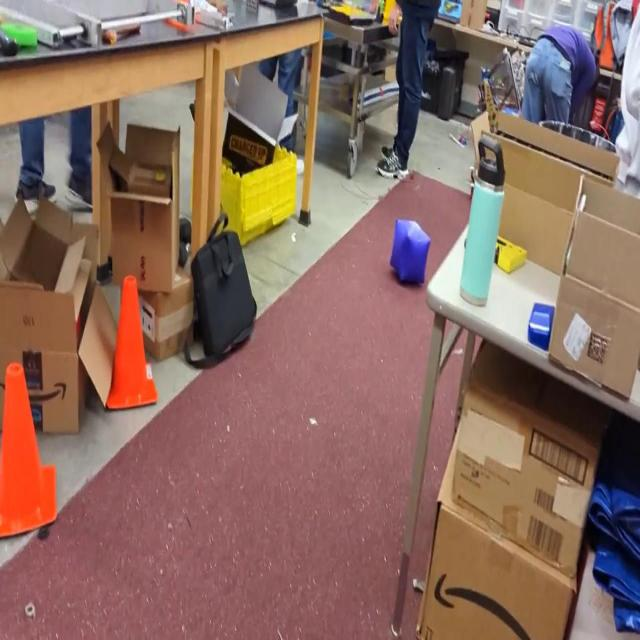frc_cone: (379, 0, 403, 28)
frc_cube: (388, 217, 431, 285)
